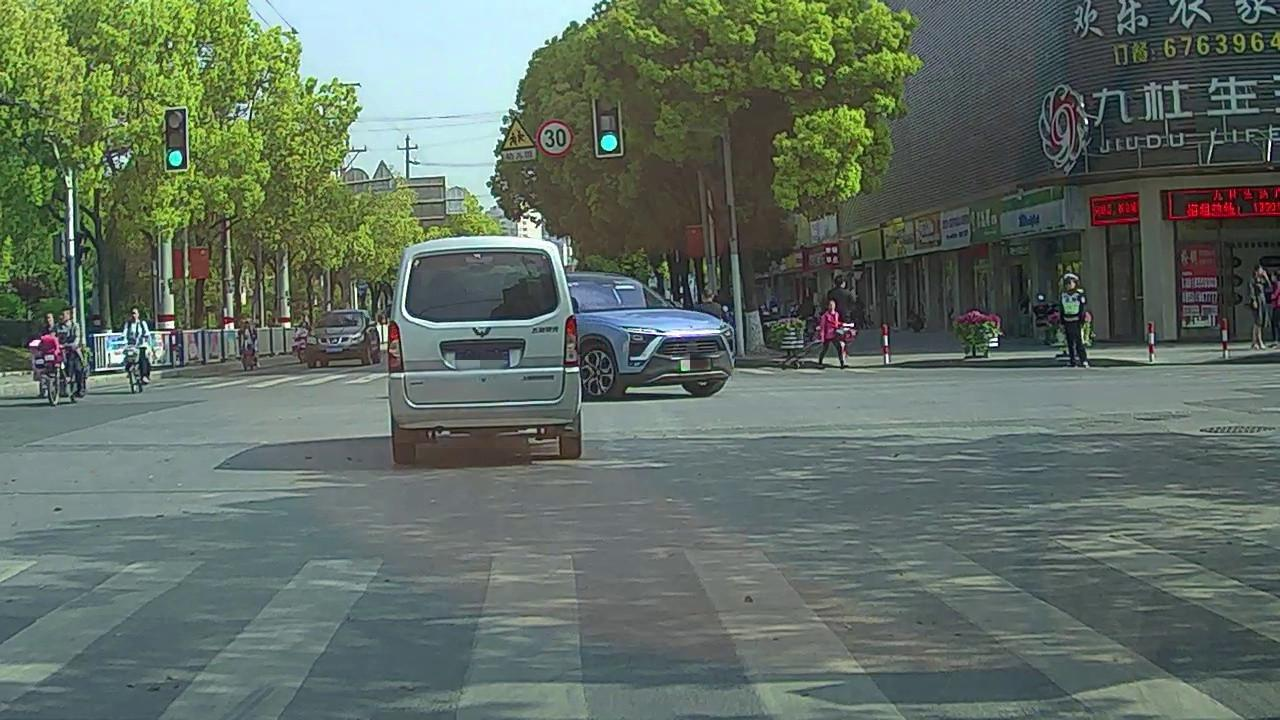traffic_light: (593, 90, 623, 154), (166, 109, 186, 168)
